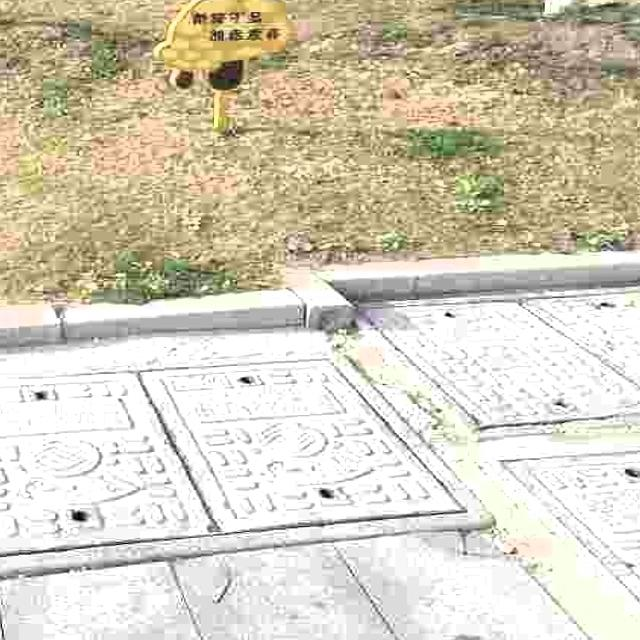good: (0, 344, 495, 594), (350, 285, 640, 435), (451, 450, 640, 640)
